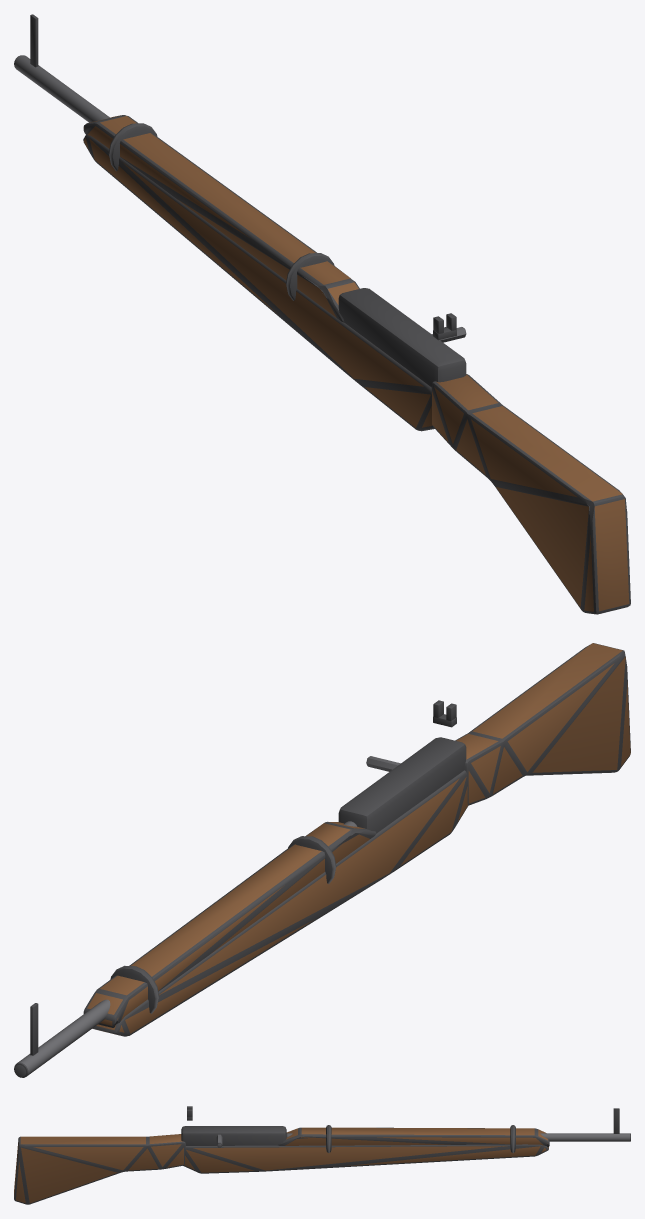
The model's file is mosin.glb.
The picture shows the model from 3 angles, top to bottom: view 1: azimuth 30°, elevation 25°; view 2: azimuth 150°, elevation 25°; view 3: azimuth 270°, elevation 25°; orthographic projection. The views are drawn at different scales.
Visible parts, largest first — view 1: mosin_LOD0; view 2: mosin_LOD0; view 3: mosin_LOD0.
Part boxes in pixels (left/top/right/bottom): mosin_LOD0: left=14, top=14, right=630, bottom=614; mosin_LOD0: left=14, top=643, right=630, bottom=1077; mosin_LOD0: left=14, top=1106, right=630, bottom=1204.
Bounding box in the file's own units: 0.091 × 0.2132 × 1.29.
